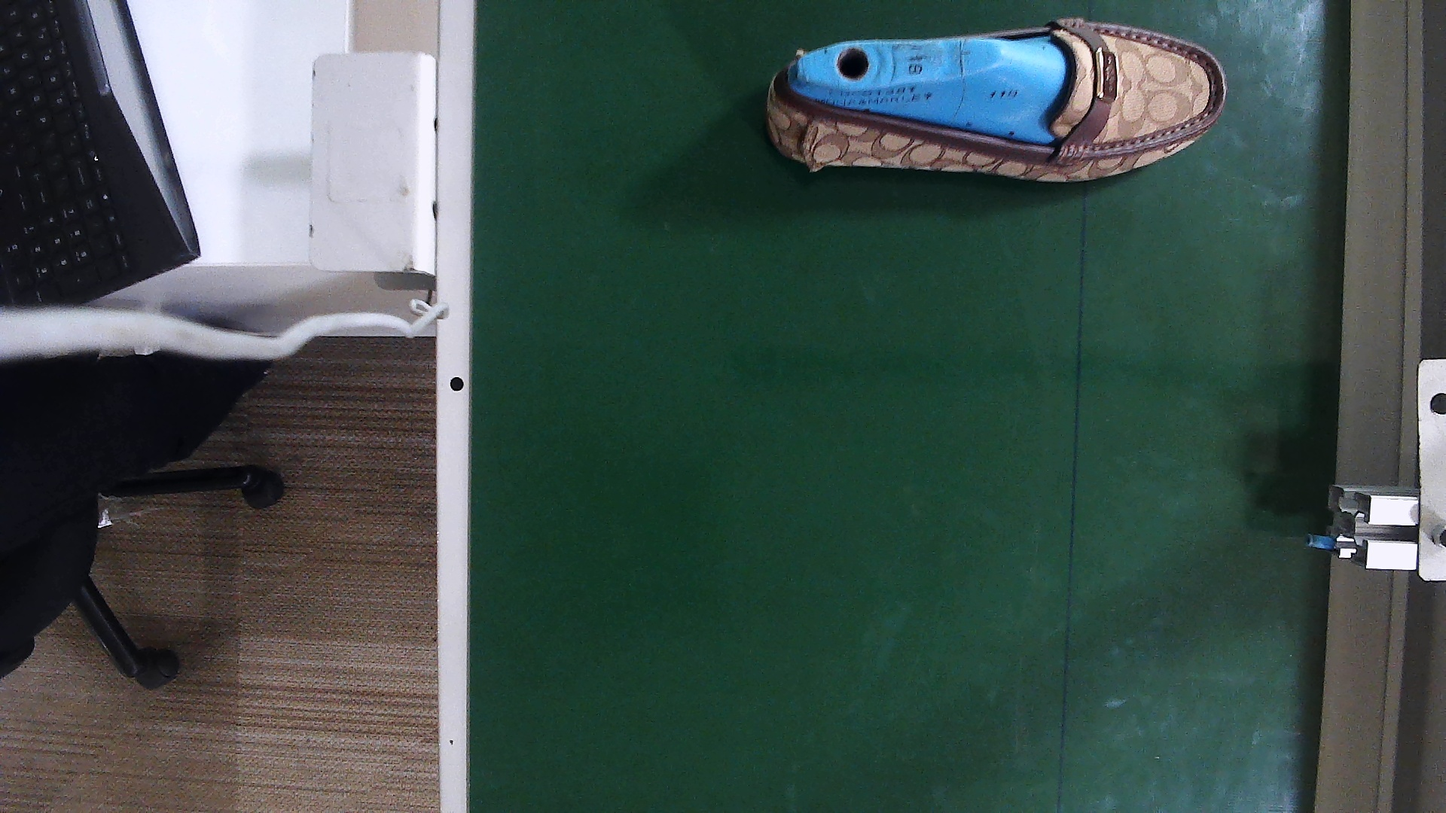shoe: (770, 22, 1225, 182)
